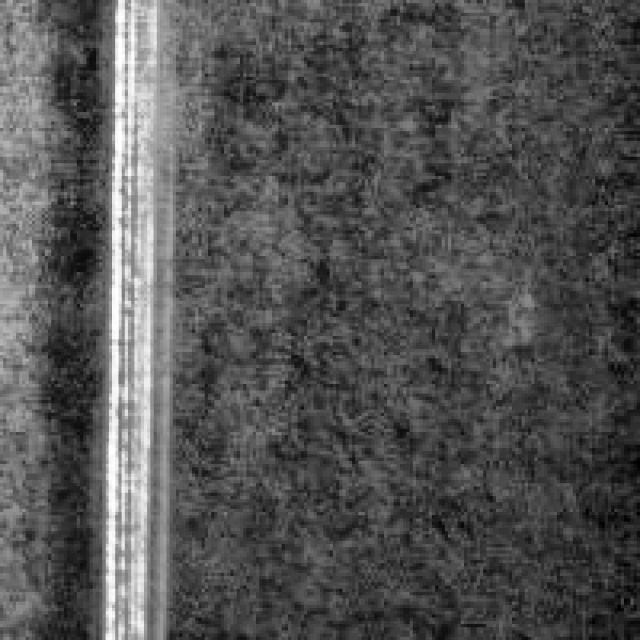Inclusion: (86, 0, 173, 634)
